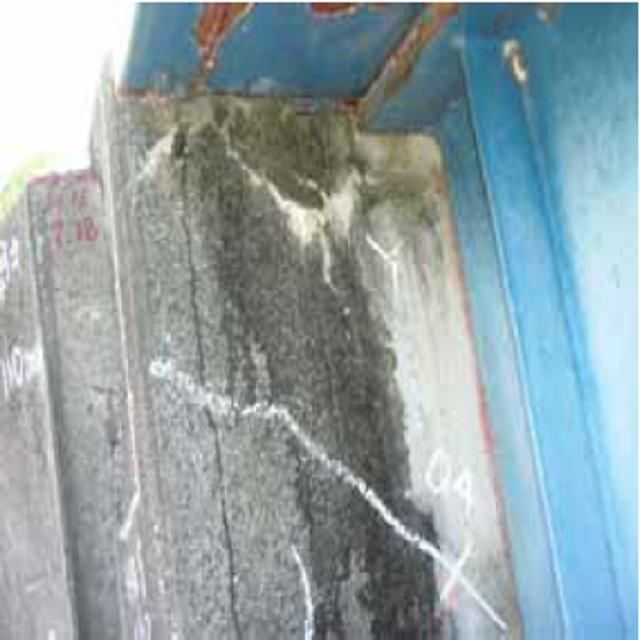corrosion: (179, 5, 470, 84)
crack: (170, 107, 251, 637)
freelime: (293, 163, 387, 280)
